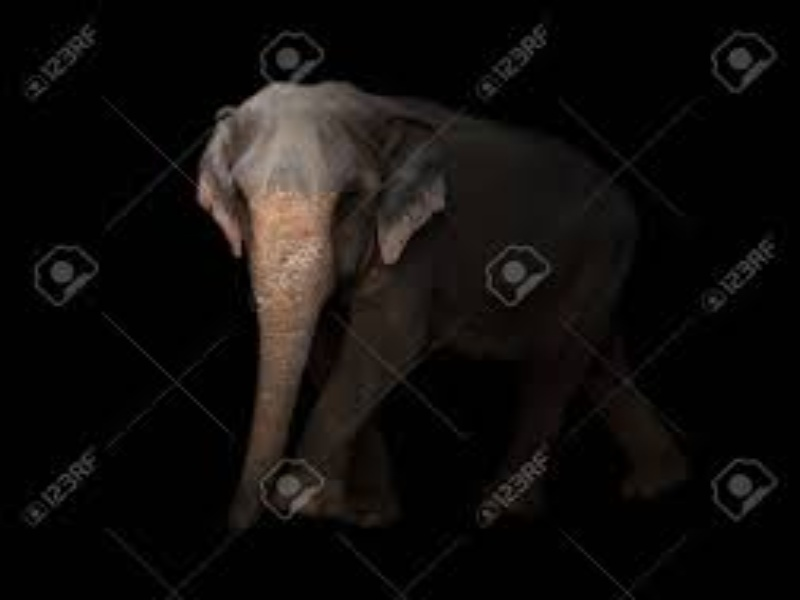elephant: (175, 70, 690, 535)
